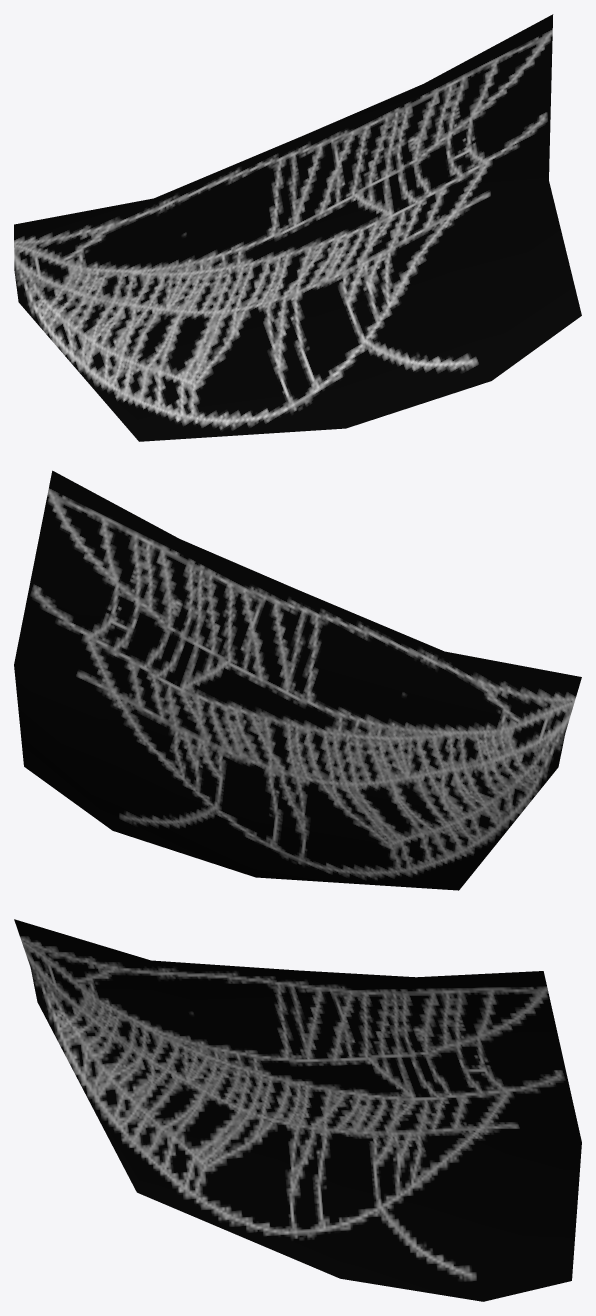
File: SM_Cobwebs_11.fbx
The picture shows the model from 3 angles, top to bottom: view 1: azimuth 30°, elevation 25°; view 2: azimuth 150°, elevation 25°; view 3: azimuth 330°, elevation 25°; orthographic projection.
Parts seen in each view (by area): view 1: SM_Cobwebs_11; view 2: SM_Cobwebs_11; view 3: SM_Cobwebs_11.
Part boxes in pixels (x1,y1,x2,y2): SM_Cobwebs_11: (14, 14, 581, 441); SM_Cobwebs_11: (14, 470, 581, 890); SM_Cobwebs_11: (14, 919, 581, 1301).
Bounding box in the file's own units: 115 × 70.62 × 7.61.
1 material, 1 textured.
